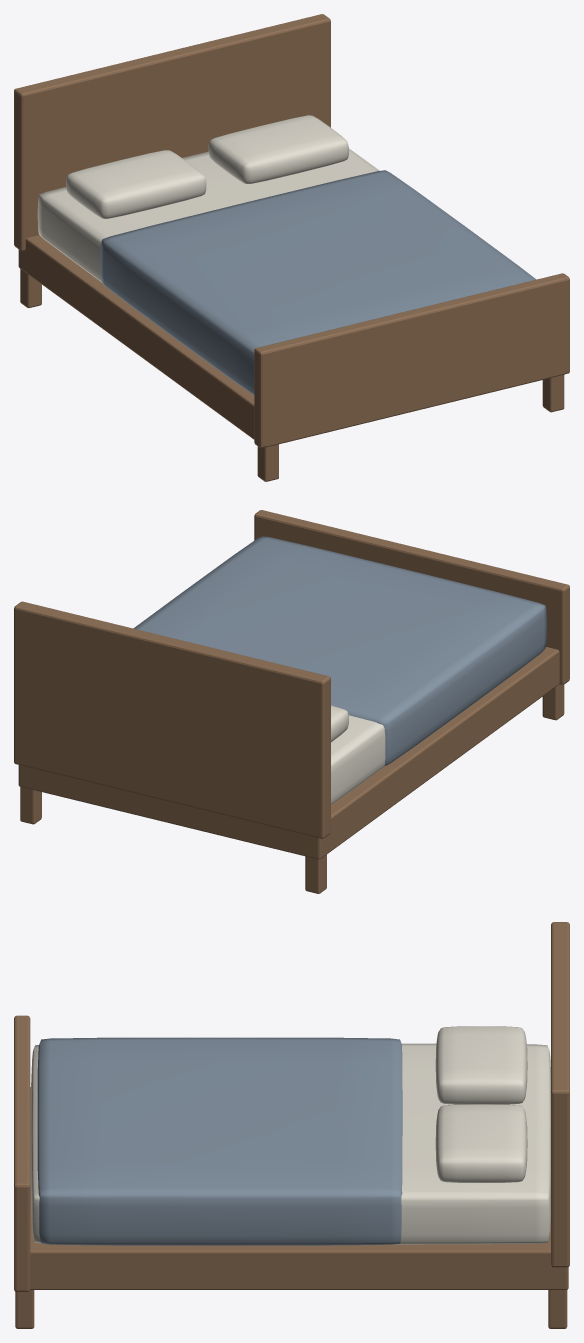
The model's file is bed_apartment.glb.
The picture shows the model from 3 angles, top to bottom: view 1: azimuth 30°, elevation 25°; view 2: azimuth 150°, elevation 25°; view 3: azimuth 270°, elevation 25°; orthographic projection. The views are drawn at different scales.
Visible parts, largest first — view 1: Quilt, Headboard, Footboard, BedFrame, Mattress, Pillow_0.34, Pillow_-0.34, Post_0.68_-0.98, Post_-0.68_-0.98, Post_-0.68_0.98; view 2: Headboard, Quilt, BedFrame, Footboard, Mattress, Post_-0.68_0.98, Post_0.68_0.98, Post_-0.68_-0.98, Pillow_-0.34; view 3: Quilt, BedFrame, Mattress, Pillow_0.34, Pillow_-0.34, Headboard, Footboard, Post_0.68_0.98, Post_0.68_-0.98.
Boxes of the visible parts, x1,y1,x2,y2 form: Quilt: (100,170,536,395); Headboard: (14,14,330,251); Footboard: (254,273,569,448); BedFrame: (18,235,565,447); Mattress: (37,148,379,282); Pillow_0.34: (208,115,348,183); Pillow_-0.34: (66,150,206,218); Post_0.68_-0.98: (542,375,564,412); Post_-0.68_-0.98: (257,444,278,481); Post_-0.68_0.98: (20,269,41,307); Headboard: (14,601,330,838); Quilt: (133,536,546,765); BedFrame: (18,647,559,859); Footboard: (254,510,569,684); Mattress: (331,715,385,804); Post_-0.68_0.98: (305,854,326,893); Post_0.68_0.98: (20,787,41,824); Post_-0.68_-0.98: (542,684,564,720); Pillow_-0.34: (331,705,348,742); Quilt: (37,1037,402,1245); BedFrame: (30,1087,568,1289); Mattress: (30,1043,550,1244); Pillow_0.34: (435,1104,527,1182); Pillow_-0.34: (435,1026,527,1104); Headboard: (551,922,569,1267); Footboard: (14,1015,30,1291); Post_0.68_0.98: (548,1290,567,1328); Post_0.68_-0.98: (15,1290,34,1328).
Bounding box in the file's own units: 1.48 × 0.98 × 2.05.
